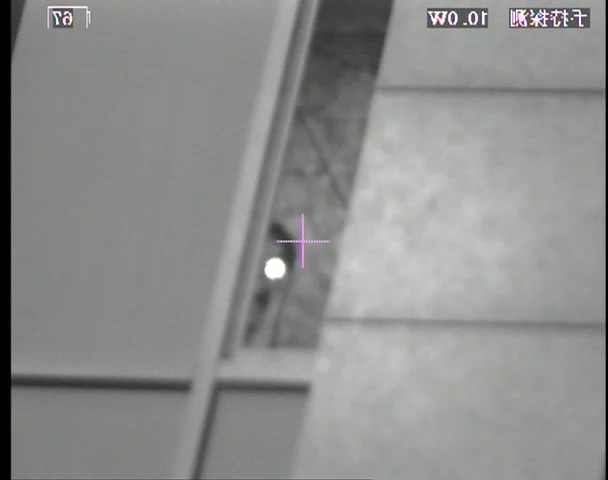my: (263, 254, 286, 282)
